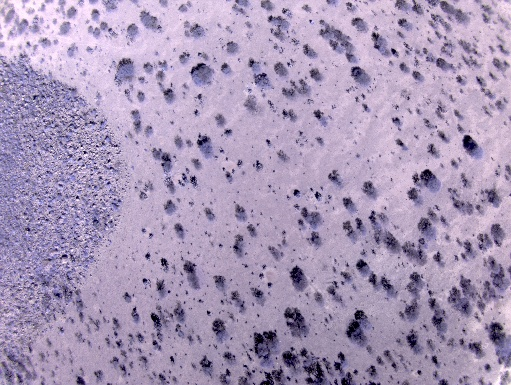agave: (111, 200, 123, 211), (67, 174, 76, 183), (43, 125, 53, 133), (101, 120, 108, 130), (89, 122, 97, 130), (90, 108, 98, 116), (104, 136, 112, 143), (104, 181, 112, 188), (45, 172, 55, 177), (66, 130, 73, 137), (68, 156, 74, 163), (38, 200, 45, 206), (93, 185, 98, 193), (56, 194, 62, 200), (47, 206, 53, 212), (45, 95, 50, 101), (39, 97, 45, 102), (77, 190, 82, 195), (41, 103, 46, 107)
